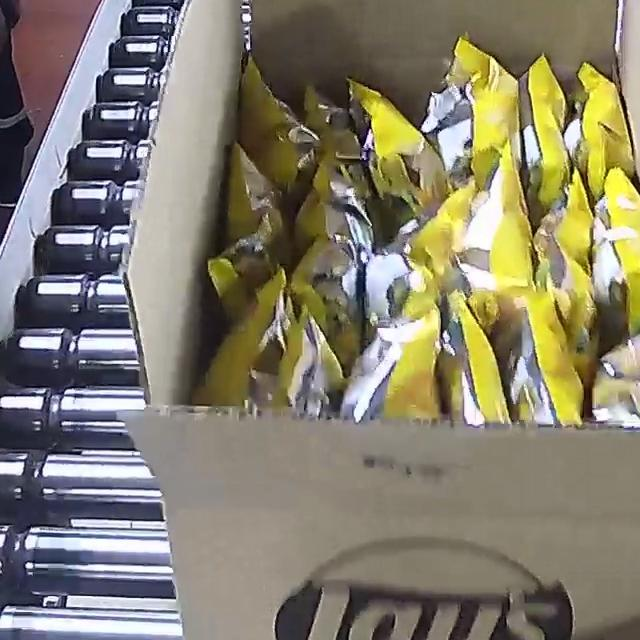salted: (196, 30, 640, 427)
